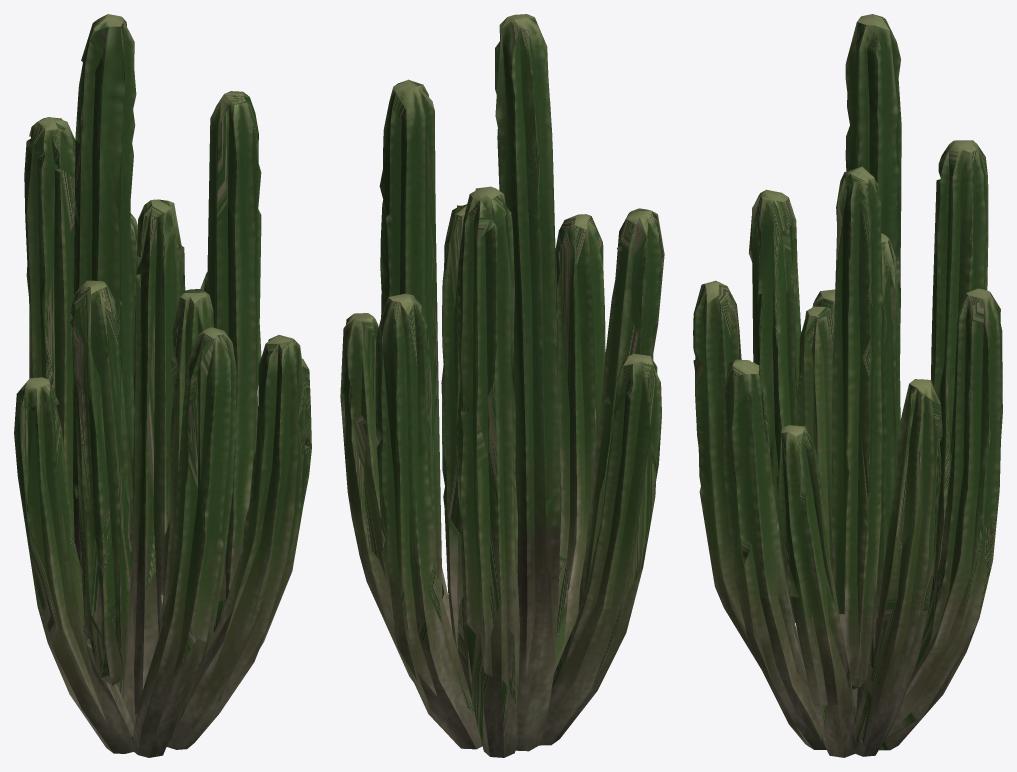
File: 04_organ_pipe_cactus.glb
3 views of the same model, side by side, from view 1: azimuth 30°, elevation 25°; view 2: azimuth 150°, elevation 25°; view 3: azimuth 270°, elevation 25° (orthographic). The views are drawn at different scales.
Parts seen in each view (by area): view 1: world; view 2: world; view 3: world.
Part boxes in pixels (x1,y1,x2,y2): world: (14,14,311,757); world: (340,14,664,757); world: (693,14,1002,757).
Size of the model in its own units: 0.4018 by 0.9998 by 0.3968.
Materials: 1 (1 with a texture image).
